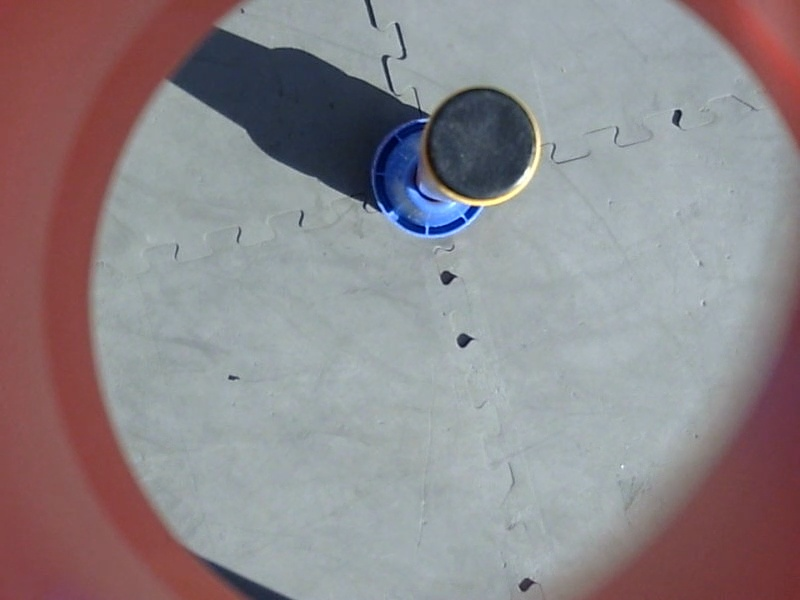tip: (418, 81, 547, 210)
